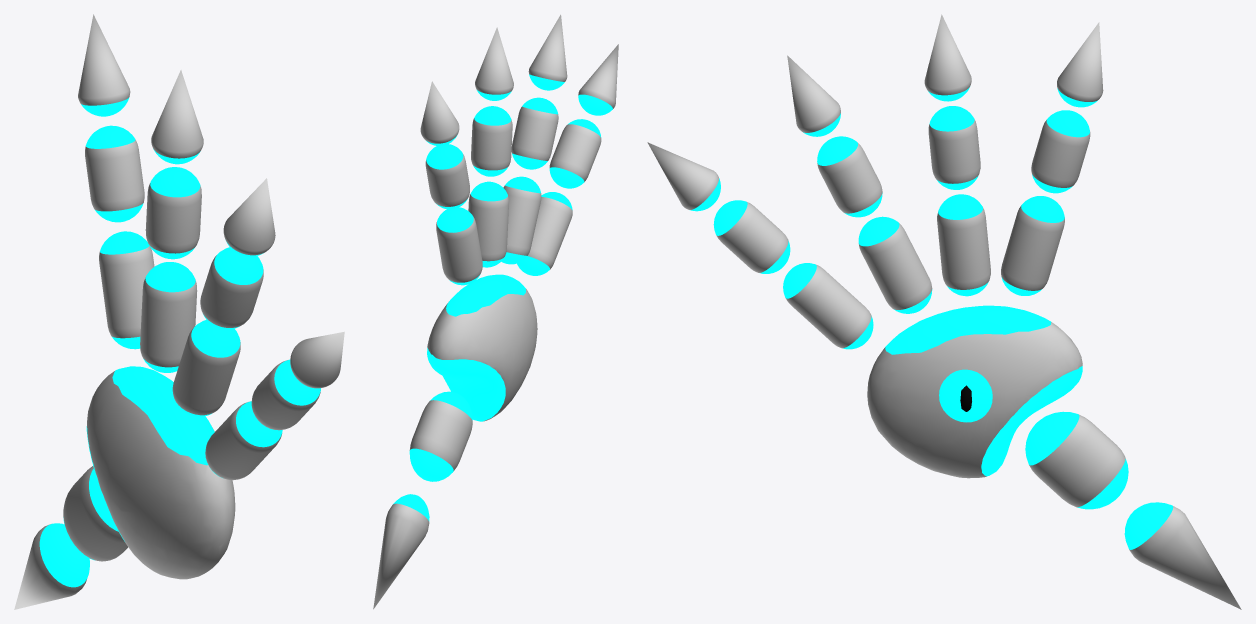
File: Rightie.fbx
3 views of the same model, side by side, from view 1: azimuth 30°, elevation 25°; view 2: azimuth 150°, elevation 25°; view 3: azimuth 270°, elevation 25° (orthographic). The views are drawn at different scales.
Parts seen in each view (by area): view 1: Sphere.034, Sphere.036, Sphere.037, Sphere.043, Sphere.035, Sphere.042, Sphere.048, Sphere.041, Sphere.047, Sphere.038, Sphere.044, Sphere.039 (+3 smaller); view 2: Sphere.034, Sphere.047, Sphere.048, Sphere.035, Sphere.041, Sphere.036, Sphere.039, Sphere.038, Sphere.042, Sphere.037, Sphere.043, Sphere.046 (+3 smaller); view 3: Sphere.034, Sphere.047, Sphere.048, Sphere.038, Sphere.037, Sphere.036, Sphere.035, Sphere.039, Sphere.041, Sphere.043, Sphere.042, Sphere.040 (+4 smaller).
Part boxes in pixels (x1=…): Sphere.034: x1=86, y1=366, x2=235, y2=579; Sphere.036: x1=140, y1=262, x2=197, y2=372; Sphere.037: x1=172, y1=320, x2=240, y2=416; Sphere.043: x1=85, y1=125, x2=144, y2=222; Sphere.035: x1=99, y1=231, x2=154, y2=349; Sphere.042: x1=145, y1=167, x2=201, y2=259; Sphere.048: x1=14, y1=523, x2=89, y2=609; Sphere.041: x1=200, y1=247, x2=263, y2=329; Sphere.047: x1=63, y1=466, x2=127, y2=561; Sphere.038: x1=205, y1=401, x2=282, y2=480; Sphere.044: x1=78, y1=14, x2=130, y2=116; Sphere.039: x1=251, y1=359, x2=320, y2=430; Sphere.034: x1=427, y1=274, x2=537, y2=421; Sphere.047: x1=409, y1=391, x2=472, y2=481; Sphere.048: x1=373, y1=494, x2=429, y2=609; Sphere.035: x1=436, y1=207, x2=482, y2=285; Sphere.041: x1=511, y1=97, x2=558, y2=169; Sphere.036: x1=468, y1=181, x2=508, y2=267; Sphere.039: x1=549, y1=119, x2=601, y2=188; Sphere.038: x1=517, y1=192, x2=572, y2=275; Sphere.042: x1=471, y1=106, x2=512, y2=176; Sphere.037: x1=501, y1=176, x2=541, y2=264; Sphere.043: x1=425, y1=144, x2=469, y2=209; Sphere.046: x1=528, y1=14, x2=567, y2=90; Sphere.034: x1=867, y1=305, x2=1082, y2=478; Sphere.047: x1=1025, y1=411, x2=1128, y2=509; Sphere.048: x1=1124, y1=502, x2=1241, y2=609; Sphere.038: x1=783, y1=263, x2=873, y2=349; Sphere.037: x1=858, y1=216, x2=932, y2=313; Sphere.036: x1=937, y1=194, x2=990, y2=296; Sphere.035: x1=1001, y1=196, x2=1064, y2=295; Sphere.039: x1=713, y1=200, x2=790, y2=273; Sphere.041: x1=817, y1=136, x2=882, y2=217; Sphere.043: x1=1031, y1=110, x2=1090, y2=193; Sphere.042: x1=928, y1=106, x2=980, y2=189; Sphere.040: x1=647, y1=142, x2=720, y2=211.
Size of the model in its own units: 544 by 3357 by 3036.
